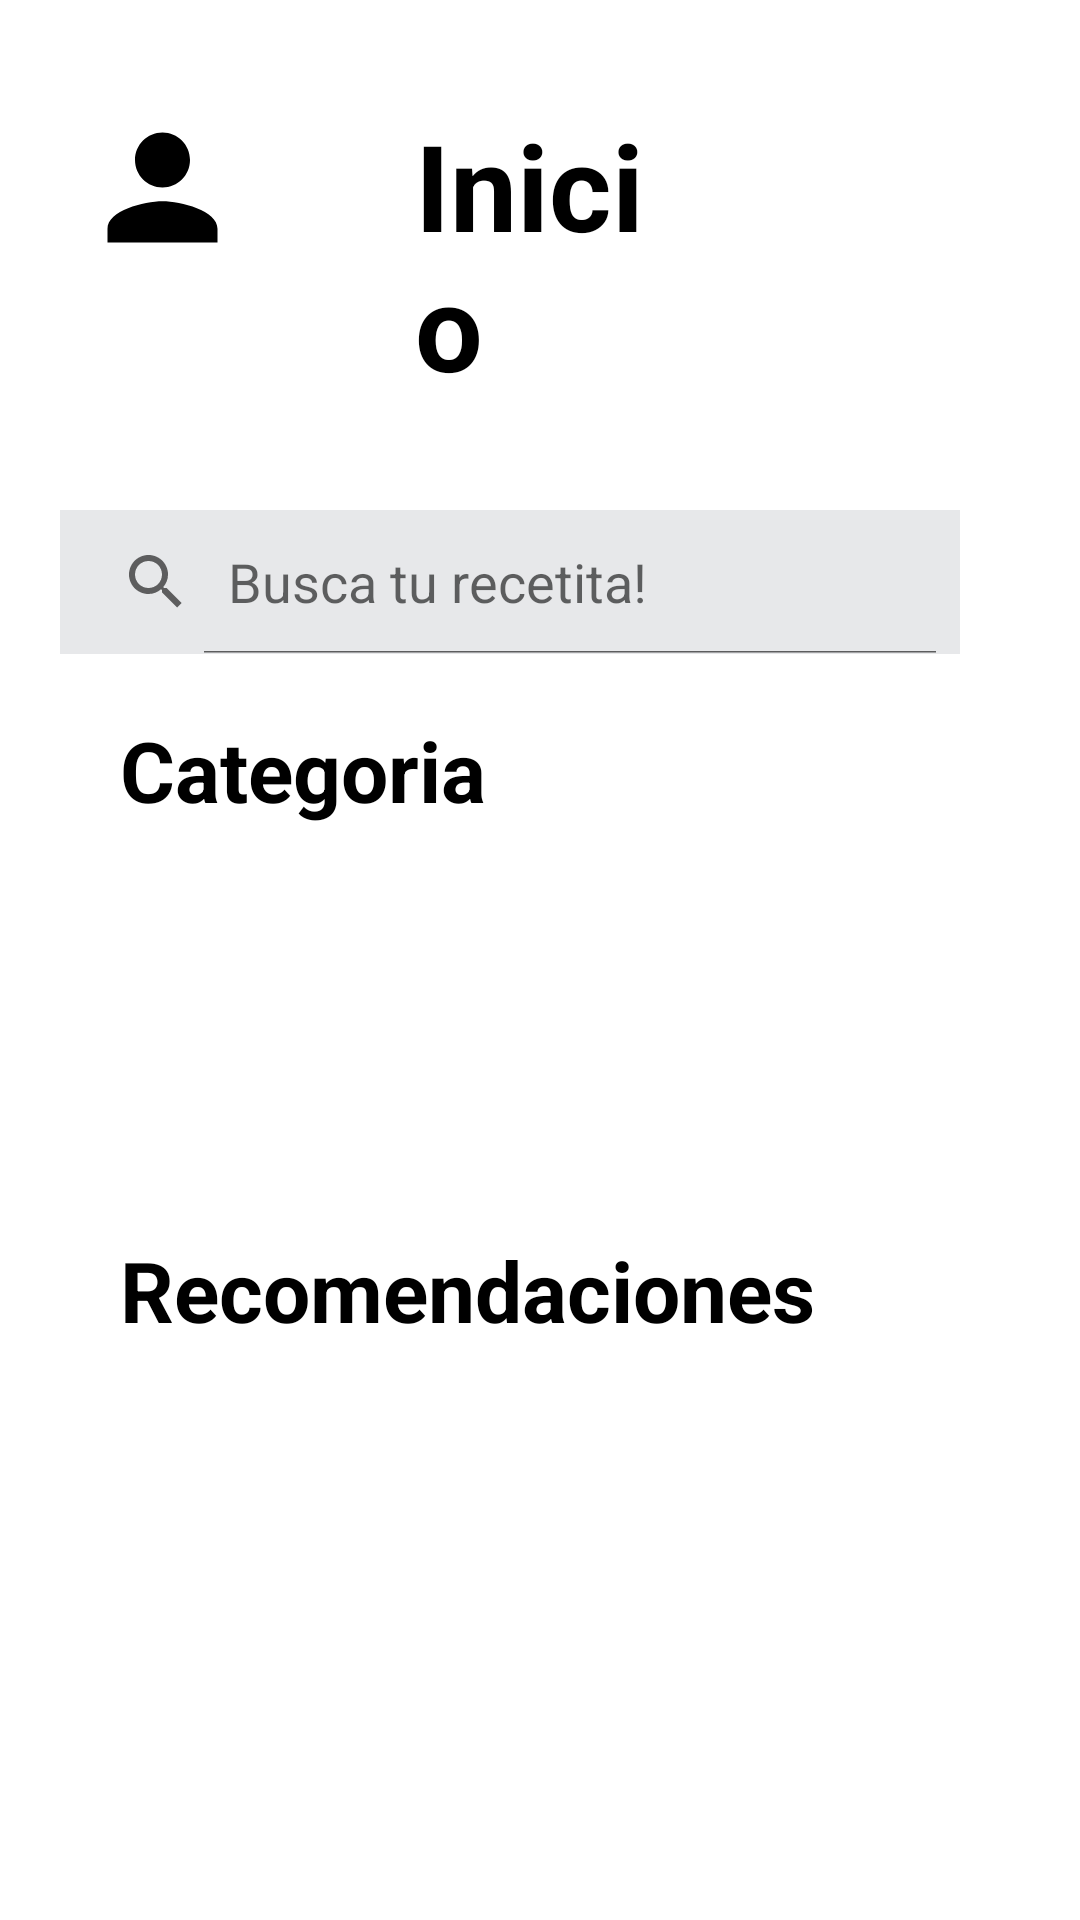

Icons on this 1080 x 1920 Android screen, each with its box as bbox=[x1, y1, x2, y2]:
personaicono: bbox=[107, 132, 218, 243]
